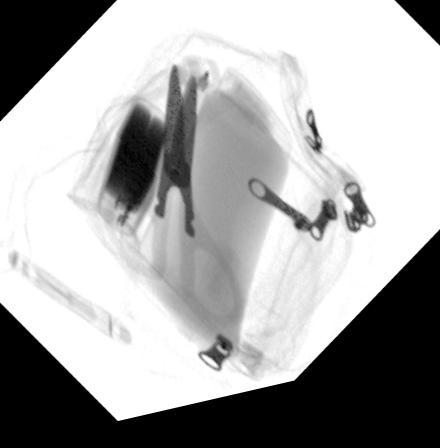Powerbank: (87, 94, 180, 249)
Scissors: (99, 69, 240, 331)
